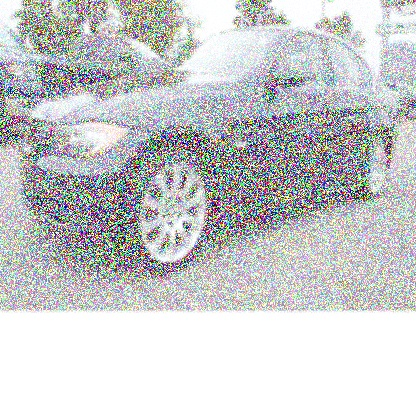Vehicle: (19, 25, 399, 279)
